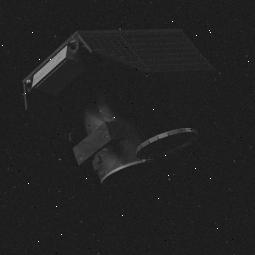cheops: (20, 25, 203, 172)
